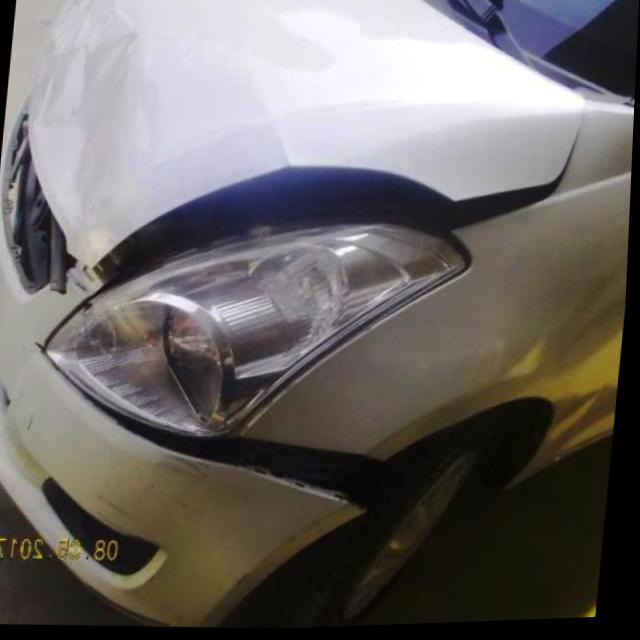Car-Damage: (89, 121, 576, 311), (25, 338, 403, 534), (18, 0, 136, 263), (135, 472, 219, 529), (150, 453, 218, 491), (95, 492, 148, 529), (95, 509, 143, 540)
